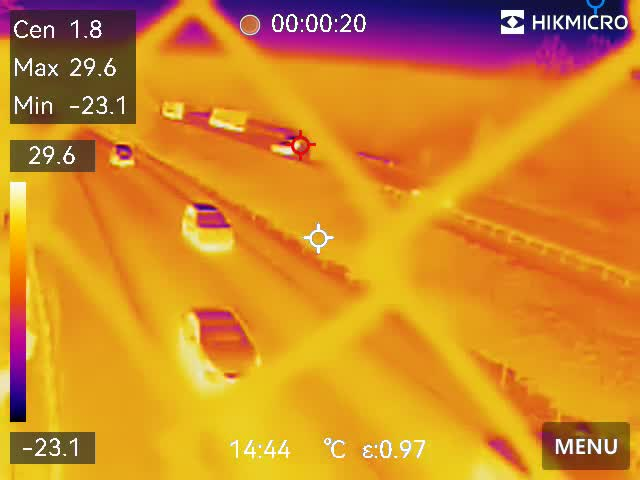heavyTruck: (207, 103, 249, 134), (154, 95, 190, 122)
largeCar: (180, 199, 238, 258)
smallCar: (174, 302, 265, 395), (111, 141, 134, 168)
vehicle: (269, 139, 299, 158)
